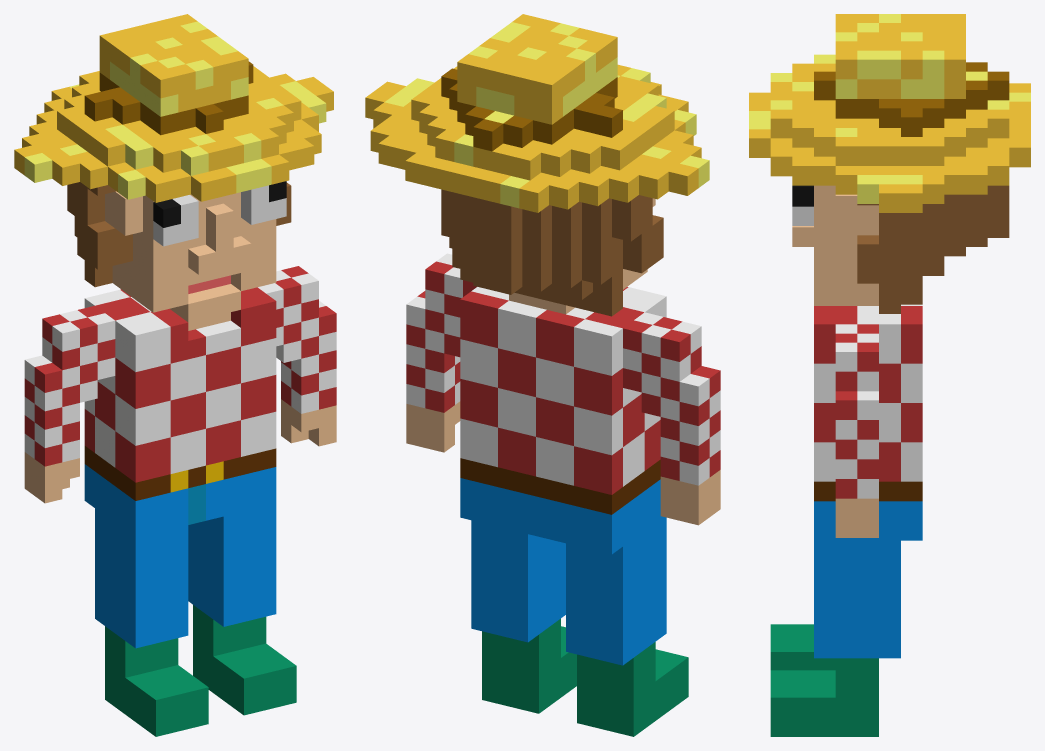
The model's file is kolo.obj.
3 views of the same model, side by side, from view 1: azimuth 30°, elevation 25°; view 2: azimuth 150°, elevation 25°; view 3: azimuth 270°, elevation 25° (orthographic). The views are drawn at different scales.
Size of the model in its own units: 17 by 34 by 13.
